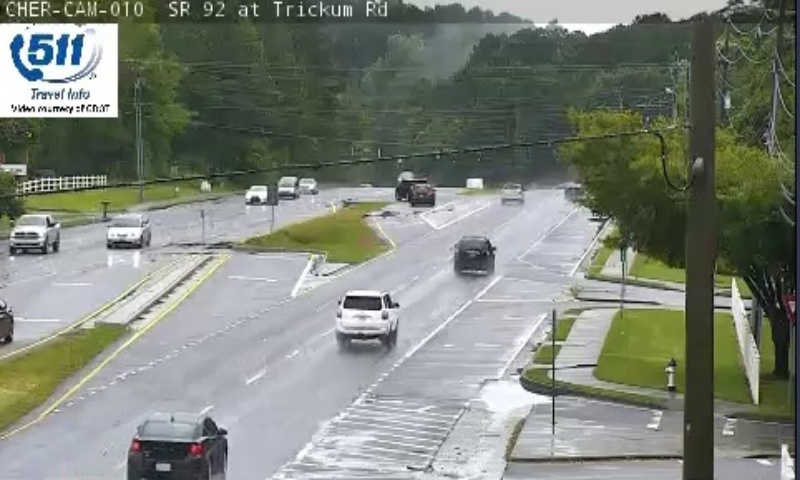car: (126, 415, 227, 480), (335, 290, 396, 337), (453, 236, 494, 274)
